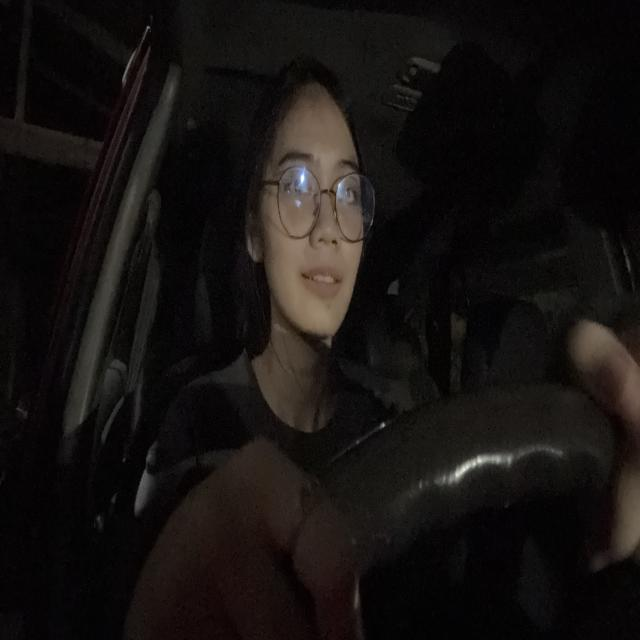open: (273, 148, 322, 211), (331, 154, 364, 220)
